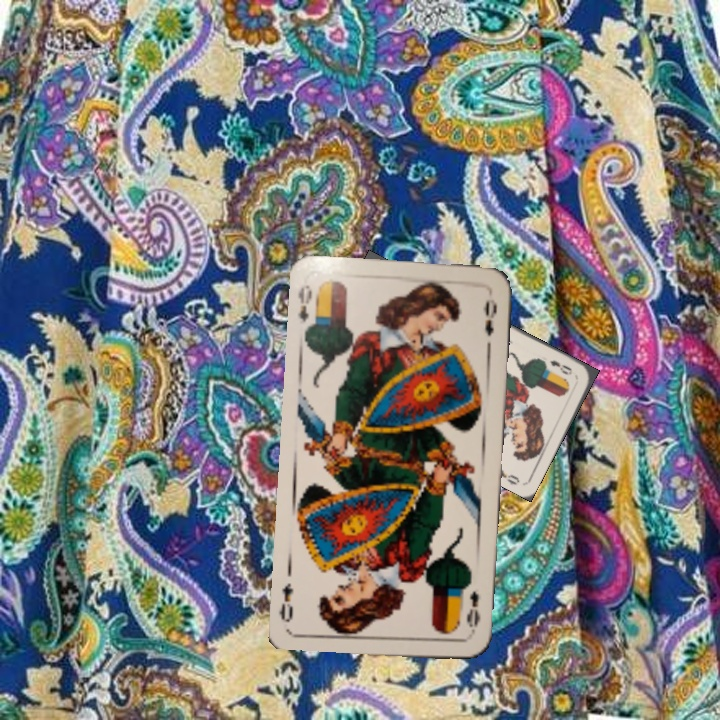EO: (462, 587, 483, 637), (294, 281, 314, 324), (546, 356, 575, 377)
